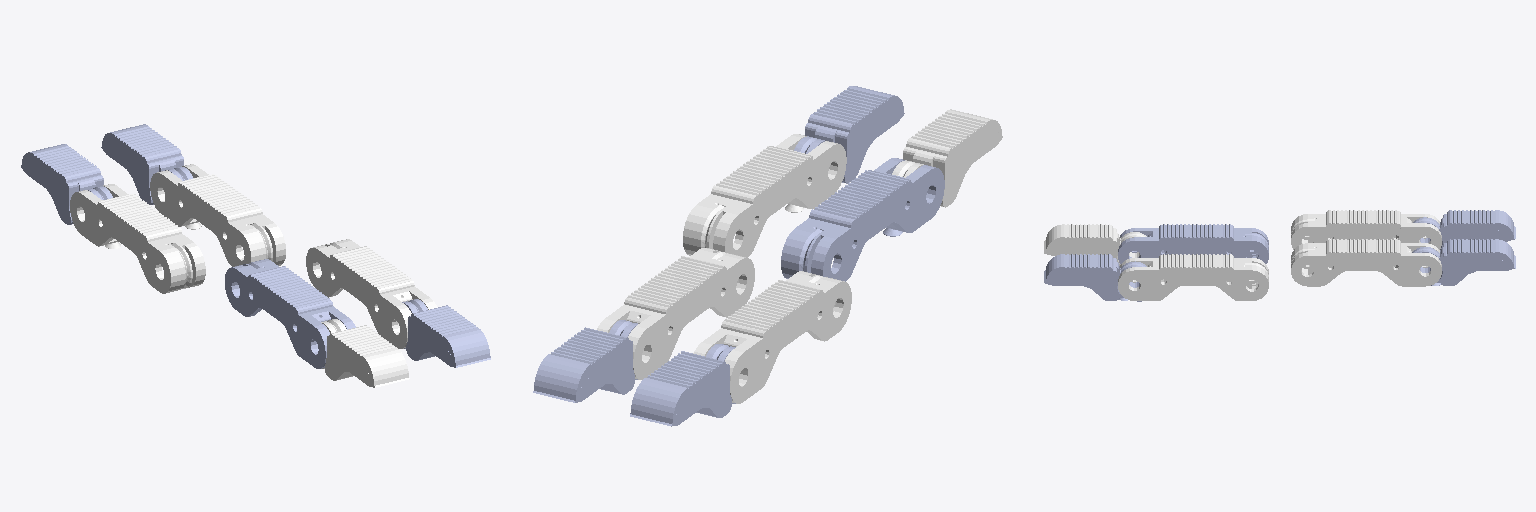
The robot description file, URDF, robot "t":
<?xml version="1.0" encoding="utf-8"?>
<!-- This URDF was automatically created by SolidWorks to URDF Exporter! Originally created by Stephen Brawner (brawner@gmail.com) 
     Commit Version: 1.6.0-4-g7f85cfe  Build Version: 1.6.7995.38578
     For more information, please see http://wiki.ros.org/sw_urdf_exporter -->
<robot
  name="t">
  <link
    name="base_link">
    <inertial>
      <origin
        xyz="0.0360586764048606 -0.0704269518222915 0.0284700937080245"
        rpy="0 0 0" />
      <mass
        value="0.260418209116826" />
      <inertia
        ixx="0.000111004589532323"
        ixy="-1.15424535449328E-06"
        ixz="-2.58909923698236E-06"
        iyy="0.000115114650117197"
        iyz="-5.15818354705845E-07"
        izz="0.000200133980490315" />
    </inertial>
    <visual>
      <origin
        xyz="0 0 0"
        rpy="0 0 0" />
      <geometry>
        <mesh
          filename="package://hand_t_pp/meshes/base_link.STL" />
      </geometry>
      <material
        name="">
        <color
          rgba="1 1 1 1" />
      </material>
    </visual>
    <collision>
      <origin
        xyz="0 0 0"
        rpy="0 0 0" />
      <geometry>
        <mesh
          filename="package://hand_t_pp/meshes/base_link.STL" />
      </geometry>
    </collision>
  </link>
  <link
    name="l1_0">
    <inertial>
      <origin
        xyz="0.000902490479881608 0.0029617341664043 -0.0313768346340418"
        rpy="0 0 0" />
      <mass
        value="0.0127933197205128" />
      <inertia
        ixx="6.48906214409331E-06"
        ixy="-5.44464096356632E-10"
        ixz="1.34078151194925E-08"
        iyy="6.58842961733398E-06"
        iyz="-1.25081754239135E-07"
        izz="5.98359362358974E-07" />
    </inertial>
    <visual>
      <origin
        xyz="0 0 0"
        rpy="0 0 0" />
      <geometry>
        <mesh
          filename="package://hand_t_pp/meshes/l1_0.STL" />
      </geometry>
      <material
        name="">
        <color
          rgba="1 1 1 1" />
      </material>
    </visual>
    <collision>
      <origin
        xyz="0 0 0"
        rpy="0 0 0" />
      <geometry>
        <mesh
          filename="package://hand_t_pp/meshes/l1_0.STL" />
      </geometry>
    </collision>
  </link>
  <joint
    name="l1_0"
    type="revolute">
    <origin
      xyz="0 -0.0557070339126653 0.0798963946838467"
      rpy="1.5707963267949 0 0" />
    <parent
      link="base_link" />
    <child
      link="l1_0" />
    <axis
      xyz="1 0 0" />
    <limit
      lower="0"
      upper="0"
      effort="0"
      velocity="0" />
  </joint>
  <link
    name="l1_1">
    <inertial>
      <origin
        xyz="-0.029016643165033 -0.0205170607443703 -0.00260000164494699"
        rpy="0 0 0" />
      <mass
        value="0.0103412938447897" />
      <inertia
        ixx="1.90956501080727E-06"
        ixy="-3.98032902774491E-13"
        ixz="4.8020408173322E-13"
        iyy="3.60429363823455E-07"
        iyz="-1.93388843081837E-07"
        izz="1.92045922306798E-06" />
    </inertial>
    <visual>
      <origin
        xyz="0 0 0"
        rpy="0 0 0" />
      <geometry>
        <mesh
          filename="package://hand_t_pp/meshes/l1_1.STL" />
      </geometry>
      <material
        name="">
        <color
          rgba="0.792156862745098 0.819607843137255 0.933333333333333 1" />
      </material>
    </visual>
    <collision>
      <origin
        xyz="0 0 0"
        rpy="0 0 0" />
      <geometry>
        <mesh
          filename="package://hand_t_pp/meshes/l1_1.STL" />
      </geometry>
    </collision>
  </link>
  <joint
    name="l1_1"
    type="revolute">
    <origin
      xyz="0.0297979954679223 0 -0.0624999999999996"
      rpy="1.57079632679489 0 0" />
    <parent
      link="l1_0" />
    <child
      link="l1_1" />
    <axis
      xyz="1 0 0" />
    <limit
      lower="0"
      upper="0"
      effort="0"
      velocity="0" />
  </joint>
  <link
    name="l2_0">
    <inertial>
      <origin
        xyz="0.0377691571448815 0.00296173416640431 -0.0313768346340418"
        rpy="0 0 0" />
      <mass
        value="0.0127933197205128" />
      <inertia
        ixx="6.48906214409331E-06"
        ixy="-5.44464096356625E-10"
        ixz="1.34078151194926E-08"
        iyy="6.58842961733398E-06"
        iyz="-1.25081754239135E-07"
        izz="5.98359362358974E-07" />
    </inertial>
    <visual>
      <origin
        xyz="0 0 0"
        rpy="0 0 0" />
      <geometry>
        <mesh
          filename="package://hand_t_pp/meshes/l2_0.STL" />
      </geometry>
      <material
        name="">
        <color
          rgba="1 1 1 1" />
      </material>
    </visual>
    <collision>
      <origin
        xyz="0 0 0"
        rpy="0 0 0" />
      <geometry>
        <mesh
          filename="package://hand_t_pp/meshes/l2_0.STL" />
      </geometry>
    </collision>
  </link>
  <joint
    name="l2_0"
    type="revolute">
    <origin
      xyz="0 -0.0557070339126653 0.0798963946838467"
      rpy="1.5707963267949 0 0" />
    <parent
      link="base_link" />
    <child
      link="l2_0" />
    <axis
      xyz="1 0 0" />
    <limit
      lower="0"
      upper="0"
      effort="0"
      velocity="0" />
  </joint>
  <link
    name="l2_1">
    <inertial>
      <origin
        xyz="0.00785002349996677 -0.0205170607443701 -0.00260000164494706"
        rpy="0 0 0" />
      <mass
        value="0.0103412938447897" />
      <inertia
        ixx="1.90956501080727E-06"
        ixy="-3.98032902865315E-13"
        ixz="4.80204081719912E-13"
        iyy="3.60429363823454E-07"
        iyz="-1.93388843081837E-07"
        izz="1.92045922306798E-06" />
    </inertial>
    <visual>
      <origin
        xyz="0 0 0"
        rpy="0 0 0" />
      <geometry>
        <mesh
          filename="package://hand_t_pp/meshes/l2_1.STL" />
      </geometry>
      <material
        name="">
        <color
          rgba="0.792156862745098 0.819607843137255 0.933333333333333 1" />
      </material>
    </visual>
    <collision>
      <origin
        xyz="0 0 0"
        rpy="0 0 0" />
      <geometry>
        <mesh
          filename="package://hand_t_pp/meshes/l2_1.STL" />
      </geometry>
    </collision>
  </link>
  <joint
    name="l2_1"
    type="revolute">
    <origin
      xyz="0.0297979954679223 0 -0.0624999999999996"
      rpy="1.57079632679489 0 0" />
    <parent
      link="l2_0" />
    <child
      link="l2_1" />
    <axis
      xyz="1 0 0" />
    <limit
      lower="0"
      upper="0"
      effort="0"
      velocity="0" />
  </joint>
  <link
    name="r1_0">
    <inertial>
      <origin
        xyz="0.0293378134258995 0.0029617341664043 -0.0313768300871961"
        rpy="0 0 0" />
      <mass
        value="0.0127933197205128" />
      <inertia
        ixx="6.48906214617093E-06"
        ixy="-5.44109412733294E-10"
        ixz="1.34078171120527E-08"
        iyy="6.58842961733399E-06"
        iyz="-1.25082070756896E-07"
        izz="5.98359360281358E-07" />
    </inertial>
    <visual>
      <origin
        xyz="0 0 0"
        rpy="0 0 0" />
      <geometry>
        <mesh
          filename="package://hand_t_pp/meshes/r1_0.STL" />
      </geometry>
      <material
        name="">
        <color
          rgba="0.792156862745098 0.819607843137255 0.933333333333333 1" />
      </material>
    </visual>
    <collision>
      <origin
        xyz="0 0 0"
        rpy="0 0 0" />
      <geometry>
        <mesh
          filename="package://hand_t_pp/meshes/r1_0.STL" />
      </geometry>
    </collision>
  </link>
  <joint
    name="r1_0"
    type="revolute">
    <origin
      xyz="0.0481313288004222 -0.0852778051601272 0.0798963946838467"
      rpy="1.5707963267949 0 3.14159265358979" />
    <parent
      link="base_link" />
    <child
      link="r1_0" />
    <axis
      xyz="1 0 0" />
    <limit
      lower="0"
      upper="0"
      effort="0"
      velocity="0" />
  </joint>
  <link
    name="r1_1">
    <inertial>
      <origin
        xyz="0.00815000907478088 0.00260000063919885 0.0205170414136883"
        rpy="0 0 0" />
      <mass
        value="0.0103412857668354" />
      <inertia
        ixx="1.90956498559354E-06"
        ixy="-5.55928224710307E-14"
        ixz="-2.8355987260505E-13"
        iyy="1.92045944398972E-06"
        iyz="-1.93388248424655E-07"
        izz="3.60429080472309E-07" />
    </inertial>
    <visual>
      <origin
        xyz="0 0 0"
        rpy="0 0 0" />
      <geometry>
        <mesh
          filename="package://hand_t_pp/meshes/r1_1.STL" />
      </geometry>
      <material
        name="">
        <color
          rgba="1 1 1 1" />
      </material>
    </visual>
    <collision>
      <origin
        xyz="0 0 0"
        rpy="0 0 0" />
      <geometry>
        <mesh
          filename="package://hand_t_pp/meshes/r1_1.STL" />
      </geometry>
    </collision>
  </link>
  <joint
    name="r1_1"
    type="revolute">
    <origin
      xyz="0.0373666666649999 0 -0.0625"
      rpy="3.14159265358979 0 3.14159265358979" />
    <parent
      link="r1_0" />
    <child
      link="r1_1" />
    <axis
      xyz="-1 0 0" />
    <limit
      lower="0"
      upper="0"
      effort="0"
      velocity="0" />
  </joint>
  <link
    name="r2_0">
    <inertial>
      <origin
        xyz="-0.00802885362937838 0.00296173416640427 -0.0313768312753861"
        rpy="0 0 0" />
      <mass
        value="0.0127933197205128" />
      <inertia
        ixx="6.48906214446327E-06"
        ixy="-5.44083422202363E-10"
        ixz="1.34078156096544E-08"
        iyy="6.588429617334E-06"
        iyz="-1.25082042862367E-07"
        izz="5.98359361989021E-07" />
    </inertial>
    <visual>
      <origin
        xyz="0 0 0"
        rpy="0 0 0" />
      <geometry>
        <mesh
          filename="package://hand_t_pp/meshes/r2_0.STL" />
      </geometry>
      <material
        name="">
        <color
          rgba="1 1 1 1" />
      </material>
    </visual>
    <collision>
      <origin
        xyz="0 0 0"
        rpy="0 0 0" />
      <geometry>
        <mesh
          filename="package://hand_t_pp/meshes/r2_0.STL" />
      </geometry>
    </collision>
  </link>
  <joint
    name="r2_0"
    type="revolute">
    <origin
      xyz="0.0481313288004222 -0.0852778051601272 0.0798963946838467"
      rpy="1.5707963267949 0 3.14159265358979" />
    <parent
      link="base_link" />
    <child
      link="r2_0" />
    <axis
      xyz="1 0 0" />
    <limit
      lower="0"
      upper="0"
      effort="0"
      velocity="0" />
  </joint>
  <link
    name="r2_1">
    <inertial>
      <origin
        xyz="0.0455166777294414 0.00260000478638094 0.020517062381841"
        rpy="0 0 0" />
      <mass
        value="0.0103412864886492" />
      <inertia
        ixx="1.90956497113687E-06"
        ixy="-3.30239024720842E-13"
        ixz="-2.53308409342384E-13"
        iyy="1.92045924642944E-06"
        iyz="-1.93388621589128E-07"
        izz="3.60429289662218E-07" />
    </inertial>
    <visual>
      <origin
        xyz="0 0 0"
        rpy="0 0 0" />
      <geometry>
        <mesh
          filename="package://hand_t_pp/meshes/r2_1.STL" />
      </geometry>
      <material
        name="">
        <color
          rgba="0.792156862745098 0.819607843137255 0.933333333333333 1" />
      </material>
    </visual>
    <collision>
      <origin
        xyz="0 0 0"
        rpy="0 0 0" />
      <geometry>
        <mesh
          filename="package://hand_t_pp/meshes/r2_1.STL" />
      </geometry>
    </collision>
  </link>
  <joint
    name="r2_1"
    type="revolute">
    <origin
      xyz="0.0373666666649999 0 -0.0625"
      rpy="3.14159265358979 0 3.14159265358979" />
    <parent
      link="r2_0" />
    <child
      link="r2_1" />
    <axis
      xyz="-1 0 0" />
    <limit
      lower="0"
      upper="0"
      effort="0"
      velocity="0" />
  </joint>
</robot>

--- Facts derived from the render (not from the file) ---
3 views of the same robot in one strip: view 1: azimuth 30°, elevation 25°; view 2: azimuth 150°, elevation 25°; view 3: azimuth 270°, elevation 25° (orthographic).
Robot: t — 9 links, 8 joints (8 revolute); root link base_link; default pose: all joints at 0.
Visible links, largest first — view 1: l1_0, l2_0, r1_0, r2_0, r2_1, r1_1, l1_1, l2_1; view 2: r2_0, r1_0, l1_0, l2_0, l1_1, l2_1, r1_1, r2_1; view 3: l2_0, r2_0, r1_0, l1_0, l2_1, r2_1, r1_1, l1_1.
Link boxes in pixels (box(x1,y1,x2,y2)): l1_0: box(70, 184, 205, 293); l2_0: box(150, 164, 285, 266); r1_0: box(225, 259, 355, 368); r2_0: box(306, 239, 437, 348); r2_1: box(402, 299, 490, 367); r1_1: box(321, 319, 409, 387); l1_1: box(21, 144, 112, 224); l2_1: box(101, 124, 192, 204); r2_0: box(683, 134, 846, 257); r1_0: box(781, 158, 944, 281); l1_0: box(693, 271, 851, 403); l2_0: box(597, 248, 754, 379); l1_1: box(630, 344, 735, 426); l2_1: box(533, 320, 637, 402); r1_1: box(892, 109, 1002, 207); r2_1: box(794, 86, 904, 183); l2_0: box(1291, 239, 1441, 286); r2_0: box(1118, 254, 1268, 300); r1_0: box(1118, 224, 1268, 263); l1_0: box(1291, 210, 1441, 249); l2_1: box(1412, 239, 1515, 285); r2_1: box(1044, 254, 1146, 301); r1_1: box(1044, 224, 1146, 265); l1_1: box(1413, 210, 1515, 251).
Bounding box of the posed robot: 0.0715 × 0.2505 × 0.0229 m (x, y, z).
8 mesh visuals loaded from 9 distinct referenced files (8 binary STL); not drawn: 1 (reference not matched to a file when rendering).
